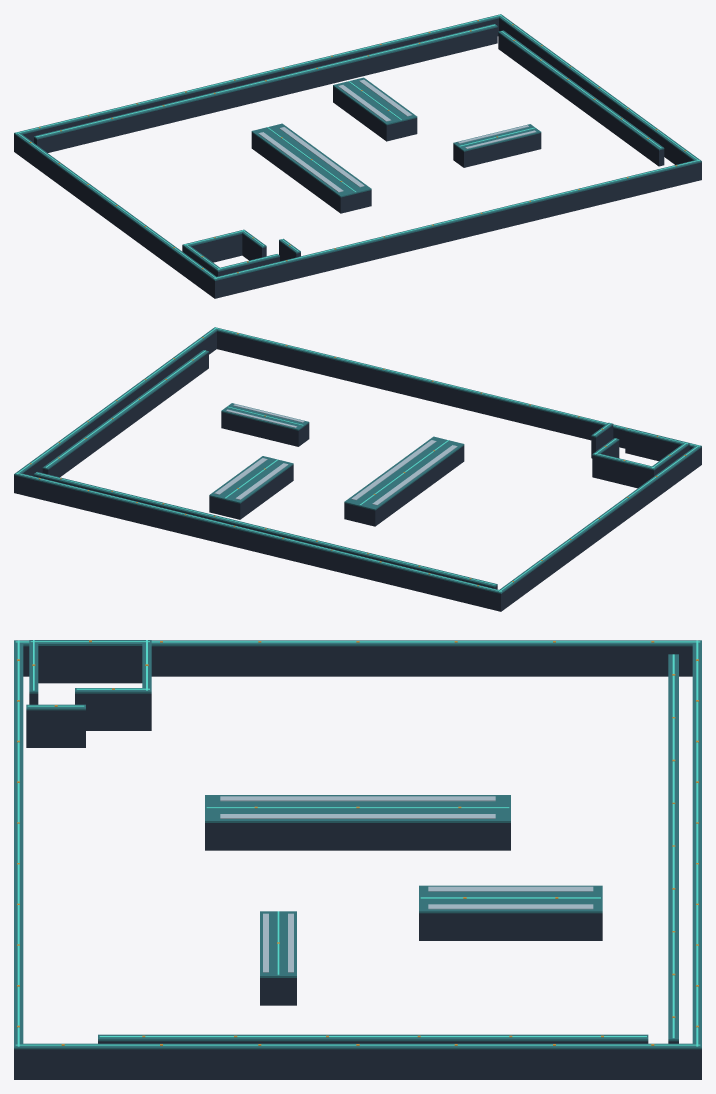
Rendered from campaign_crystal_pass.runtime.gltf.
3 renders of one model, top to bottom at view 1: azimuth 30°, elevation 25°; view 2: azimuth 150°, elevation 25°; view 3: azimuth 270°, elevation 25°, orthographic. The views are drawn at different scales.
Visible parts, largest first — view 1: BATCH material 0, BATCH material 1, BATCH material 3, BATCH material 2; view 2: BATCH material 0, BATCH material 1, BATCH material 3, BATCH material 2; view 3: BATCH material 0, BATCH material 1, BATCH material 3, BATCH material 2.
Part boxes in pixels (x1,y1,x2,y2): BATCH material 0: (14,18,701,298); BATCH material 1: (14,14,701,280); BATCH material 3: (16,14,699,278); BATCH material 2: (258,79,536,192); BATCH material 0: (14,331,701,611); BATCH material 1: (14,327,701,593); BATCH material 3: (16,327,699,591); BATCH material 2: (214,404,457,505); BATCH material 0: (14,646,701,1079); BATCH material 1: (14,640,701,1049); BATCH material 3: (15,640,700,1046); BATCH material 2: (220,796,593,972).
Size of the model in its own units: 31.5 by 1.45 by 22.5.
